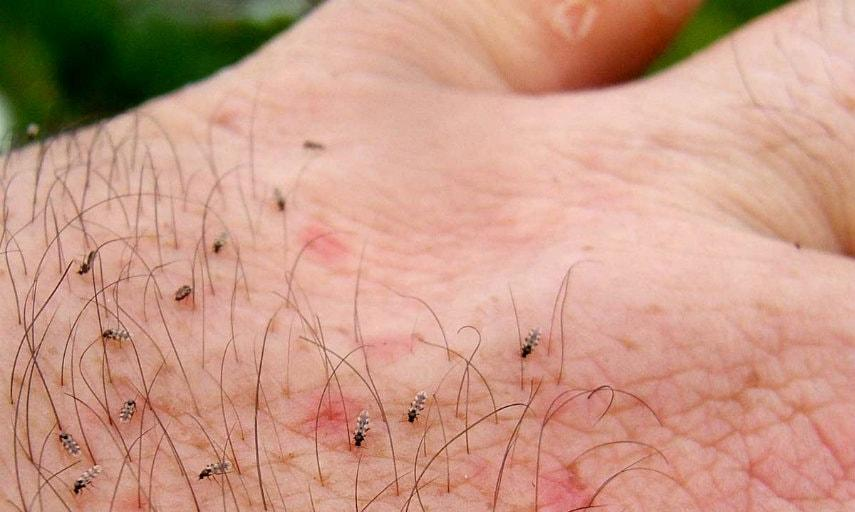Midges: (528, 444, 605, 512), (288, 381, 349, 442), (292, 222, 352, 271)
